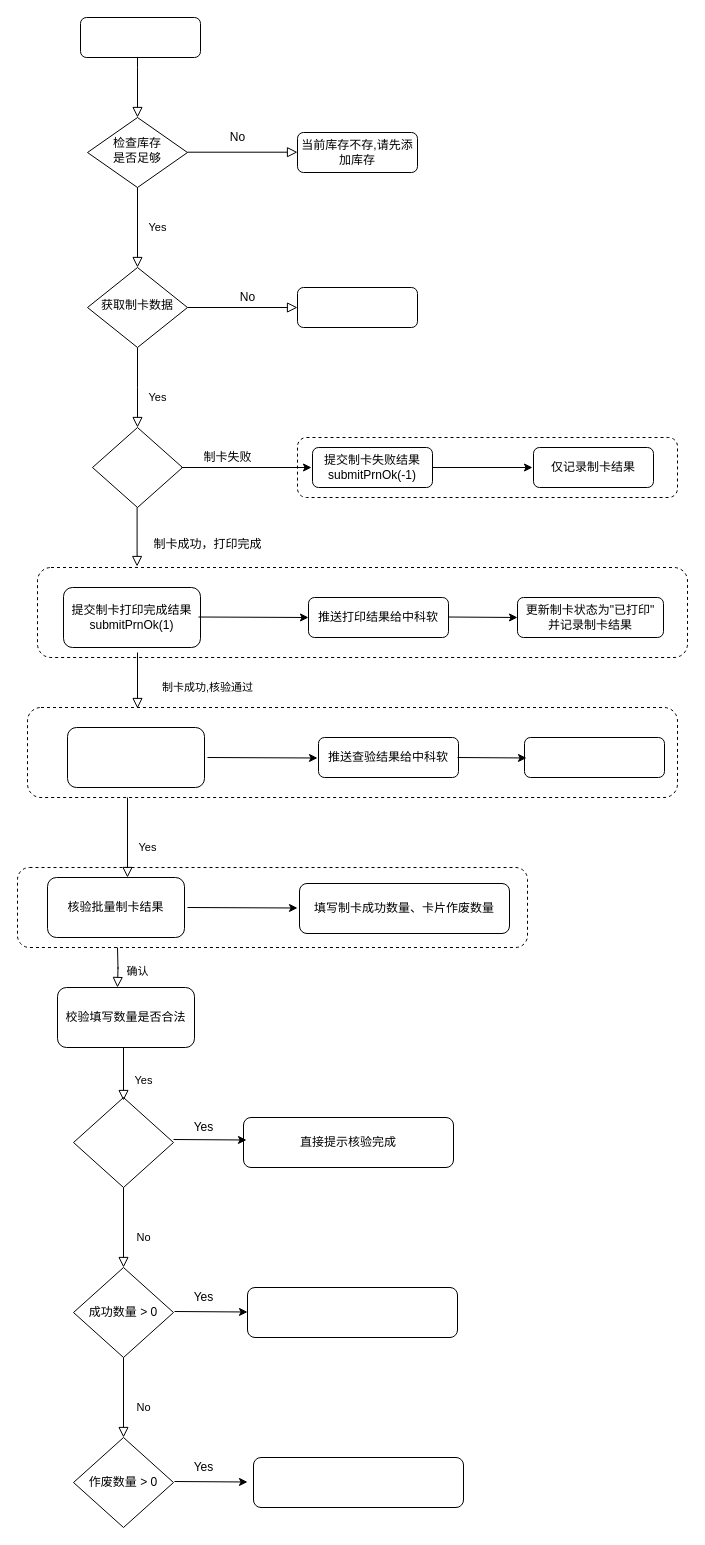
This 705x1545 diagram has some shape labels left out. The box of each missing label's shape, as (x1, y1, x2, y2) in pixels:
修改库存(制卡成功，成功数量): (246, 1286, 458, 1338)
修改库存(卡片作废，作废数量): (252, 1456, 464, 1508)
发起制卡: (80, 16, 200, 58)
成功数量 和作废数量 都为0: (72, 1096, 174, 1188)
提交制卡核验通过结果submitChkOk(2): (66, 726, 204, 788)
更新制卡状态为"已核验" 并记录制卡结果: (524, 736, 664, 778)
获取制卡数据失败: (296, 286, 418, 328)
调用控件制卡: (92, 426, 182, 508)
